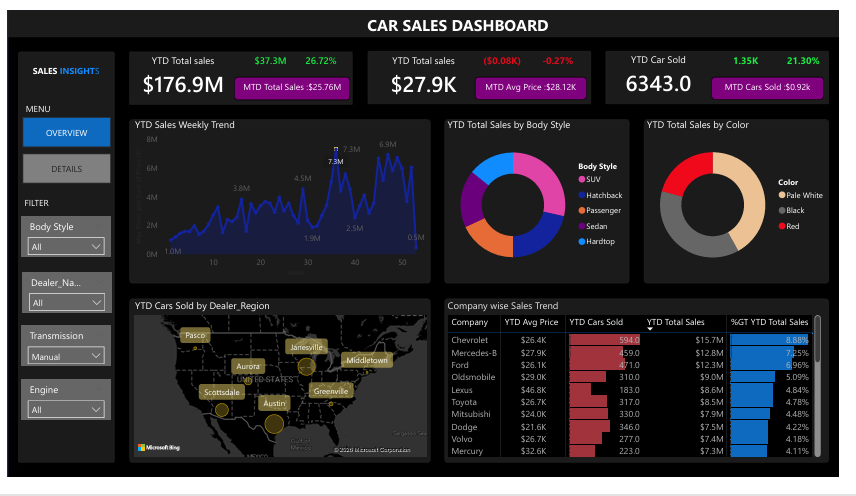

The dashboard page shown, as its layout file describes it:
{"tool":"powerbi","page":{"name":"OVERVIEW","canvas":[1280,720],"ordinal":0},"visuals":[{"type":"card","title":"YTD Total sales","fields":{"Values":["car_data.YTD Total Sales"]},"box":[191.5,65.5,157.9,72.2],"z":0},{"type":"card","fields":{"Values":["car_data.Sales Difference"]},"box":[349.4,57.1,110.9,45.4],"z":1000},{"type":"card","fields":{"Values":["car_data.YoY Sales Growth"]},"box":[438.4,57.1,89,45.4],"z":2000},{"type":"card","fields":{"Values":["car_data.MTD KPI"]},"box":[349.4,102.5,178.1,35.3],"z":3000},{"type":"card","title":"YTD Total sales","fields":{"Values":["Calendar Table.YTD Avg Price"]},"box":[561,65.5,157.9,72.2],"z":4000},{"type":"card","fields":{"Values":["car_data.Avg Price Diff"]},"box":[705.5,57.1,110.9,45.4],"z":5000},{"type":"card","fields":{"Values":["car_data.YoY Avg Price Growth"]},"box":[791.2,57.1,110.9,45.4],"z":6000},{"type":"card","fields":{"Values":["car_data.MTD Avg Price KPI"]},"box":[718.6,102,172.9,35.4],"z":7000},{"type":"card","title":"YTD Car Sold","fields":{"Values":["car_data.YTD Cars Sold"]},"box":[922.7,65.2,157.3,72.3],"z":8000},{"type":"card","fields":{"Values":["car_data.Cars Sold Diff"]},"box":[1080,56.7,110.6,45.4],"z":9000},{"type":"card","fields":{"Values":["car_data.YoY Car Sold Growth"]},"box":[1169.3,56.7,110.6,45.4],"z":10000},{"type":"card","fields":{"Values":["car_data.MTD Cars Sold KPI"]},"box":[1082.8,102,172.9,35.4],"z":11000},{"type":"areaChart","title":" YTD Sales Weekly Trend","fields":{"Category":["Calendar Table.Week"],"Y":["car_data.Max Point","Sum(car_data.Price ($))"]},"box":[191.3,164.4,459.2,249.4],"z":12000},{"type":"donutChart","fields":{"Category":["car_data.Body Style"],"Y":["car_data.YTD Total Sales"]},"box":[671.8,164.4,289.1,249.4],"z":13000},{"type":"donutChart","fields":{"Y":["car_data.YTD Total Sales"],"Category":["car_data.Color"]},"box":[979.4,164.4,289.1,249.4],"z":14000},{"type":"map","fields":{"Category":["car_data.Dealer_Region"],"Size":["car_data.YTD Cars Sold"]},"box":[191.3,443.6,459.2,248],"z":15000},{"type":"tableEx","title":"Company wise Sales Trend","fields":{"Values":["car_data.Company","Calendar Table.YTD Avg Price","car_data.YTD Cars Sold","car_data.YTD Total Sales1","car_data.YTD Total Sales"]},"box":[671.8,443.6,583.9,248],"z":16000},{"type":"textbox","box":[422.4,0,541.4,42.5],"z":17000},{"type":"slicer","fields":{"Values":["car_data.Body Style"]},"box":[21.3,317.5,137.5,62.4],"z":18000},{"type":"slicer","fields":{"Values":["car_data.Dealer_Name","car_data.Dealer_Region"]},"box":[22.7,402.5,137.5,62.4],"z":19000},{"type":"slicer","fields":{"Values":["car_data.Transmission"]},"box":[21.3,484.7,137.5,62.4],"z":20000},{"type":"slicer","fields":{"Values":["car_data.Engine"]},"box":[21.3,568.3,137.5,62.4],"z":21000},{"type":"textbox","box":[21.3,282,76.5,35.4],"z":22000},{"type":"textbox","box":[21.3,79.4,137.5,41.1],"z":23000},{"type":"pageNavigator","box":[22.7,164.4,136.1,102],"z":24000},{"type":"textbox","box":[22.7,137.5,76.5,35.4],"z":25000}]}

Visuals, with their boxes in screenshot pixels (x1, y1, x2, y2), scaled from the page's 1280x720 canvas onto the 856x496 screenshot:
"YTD Total sales" card: rect(128, 45, 234, 95)
card - car_data.Sales Difference: rect(234, 39, 308, 71)
card - car_data.YoY Sales Growth: rect(293, 39, 353, 71)
card - car_data.MTD KPI: rect(234, 71, 353, 95)
"YTD Total sales" card: rect(375, 45, 481, 95)
card - car_data.Avg Price Diff: rect(472, 39, 546, 71)
card - car_data.YoY Avg Price Growth: rect(529, 39, 603, 71)
card - car_data.MTD Avg Price KPI: rect(481, 70, 596, 95)
"YTD Car Sold" card: rect(617, 45, 722, 95)
card - car_data.Cars Sold Diff: rect(722, 39, 796, 70)
card - car_data.YoY Car Sold Growth: rect(782, 39, 855, 70)
card - car_data.MTD Cars Sold KPI: rect(724, 70, 840, 95)
" YTD Sales Weekly Trend" areaChart: rect(128, 113, 435, 285)
donutChart - car_data.Body Style x car_data.YTD Total Sales: rect(449, 113, 643, 285)
donutChart - car_data.YTD Total Sales x car_data.Color: rect(655, 113, 848, 285)
map - car_data.Dealer_Region x car_data.YTD Cars Sold: rect(128, 306, 435, 476)
"Company wise Sales Trend" tableEx: rect(449, 306, 840, 476)
textbox: rect(282, 0, 645, 29)
slicer - car_data.Body Style: rect(14, 219, 106, 262)
slicer - car_data.Dealer_Name x car_data.Dealer_Region: rect(15, 277, 107, 320)
slicer - car_data.Transmission: rect(14, 334, 106, 377)
slicer - car_data.Engine: rect(14, 391, 106, 434)
textbox: rect(14, 194, 65, 219)
textbox: rect(14, 55, 106, 83)
pageNavigator: rect(15, 113, 106, 184)
textbox: rect(15, 95, 66, 119)
